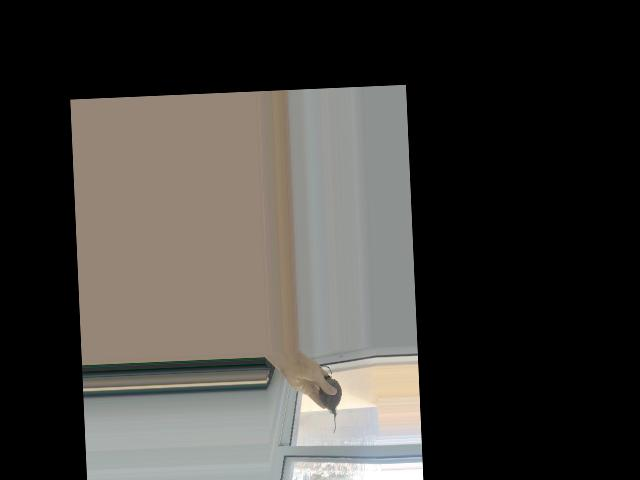beet: (311, 365, 343, 434)
